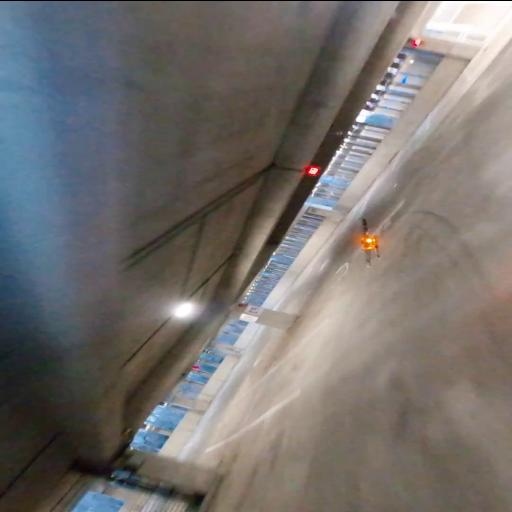uav: (350, 213, 390, 271)
